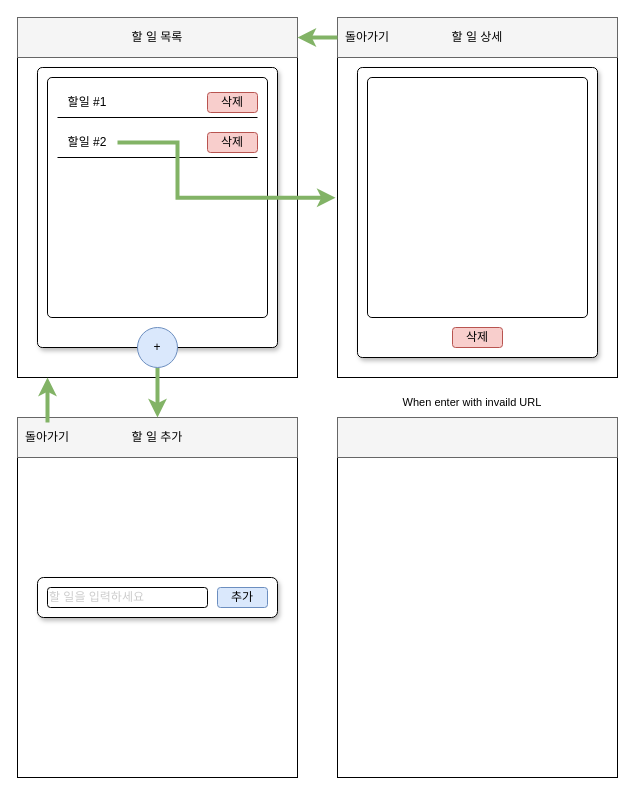
The diagram is 635 pixels wide and 795 high, and some of its shapes have lost their labels. Here are the shapes that lost their labels. From the top down, the centre of each, then its label:
At pixel 477 197: "할일 상세 내용 ...".
At pixel 477 437: "에러".
At pixel 477 617: "Not Found !".
